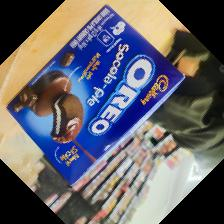Oreo: (6, 4, 185, 187)
